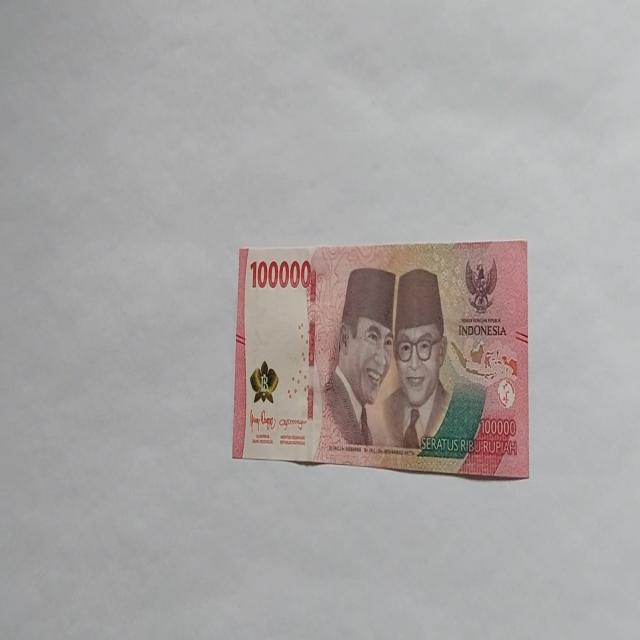seratus ribu rupiah: (232, 240, 529, 479), (314, 266, 398, 458), (380, 266, 452, 450)
